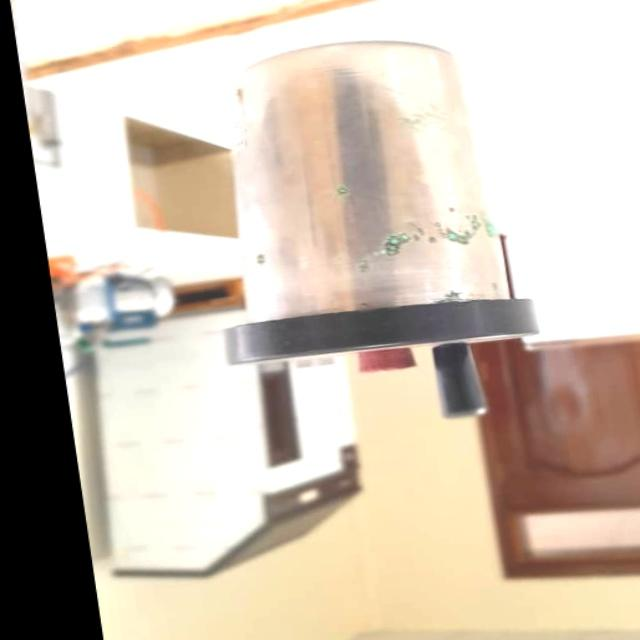Calorimeter: (184, 26, 548, 448)
